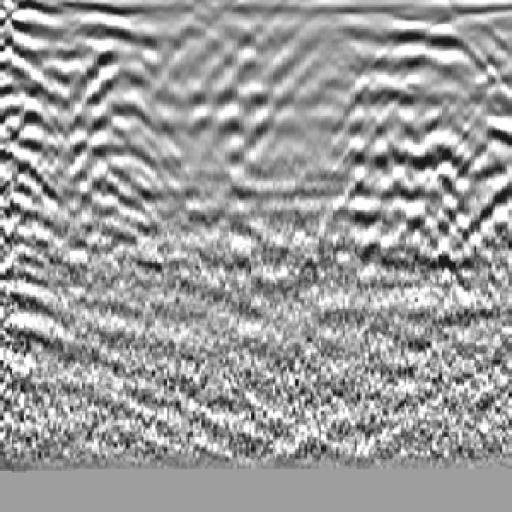non-metallic: (336, 8, 512, 258), (18, 37, 201, 265)
